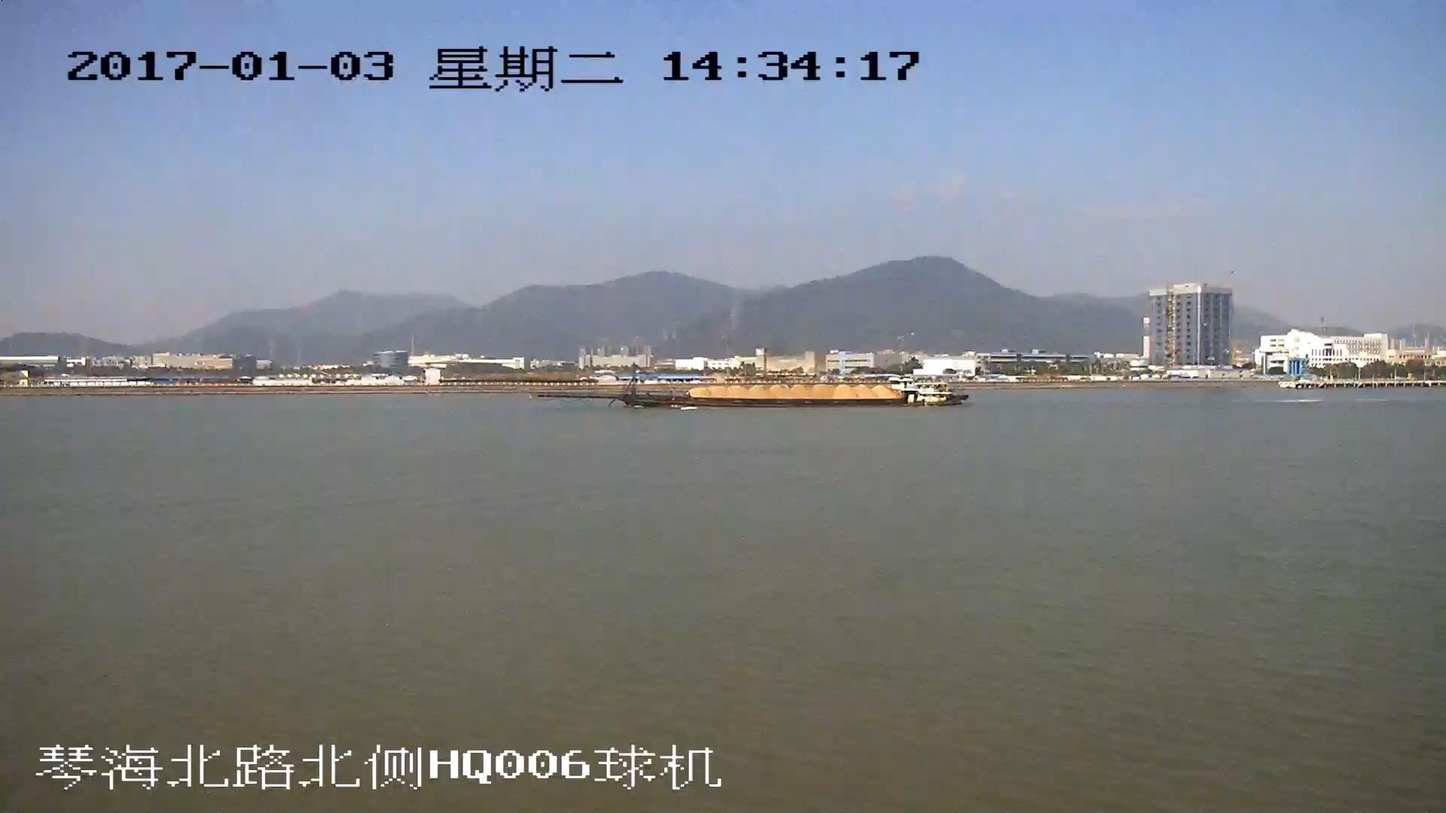ore carrier: (538, 371, 967, 406)
